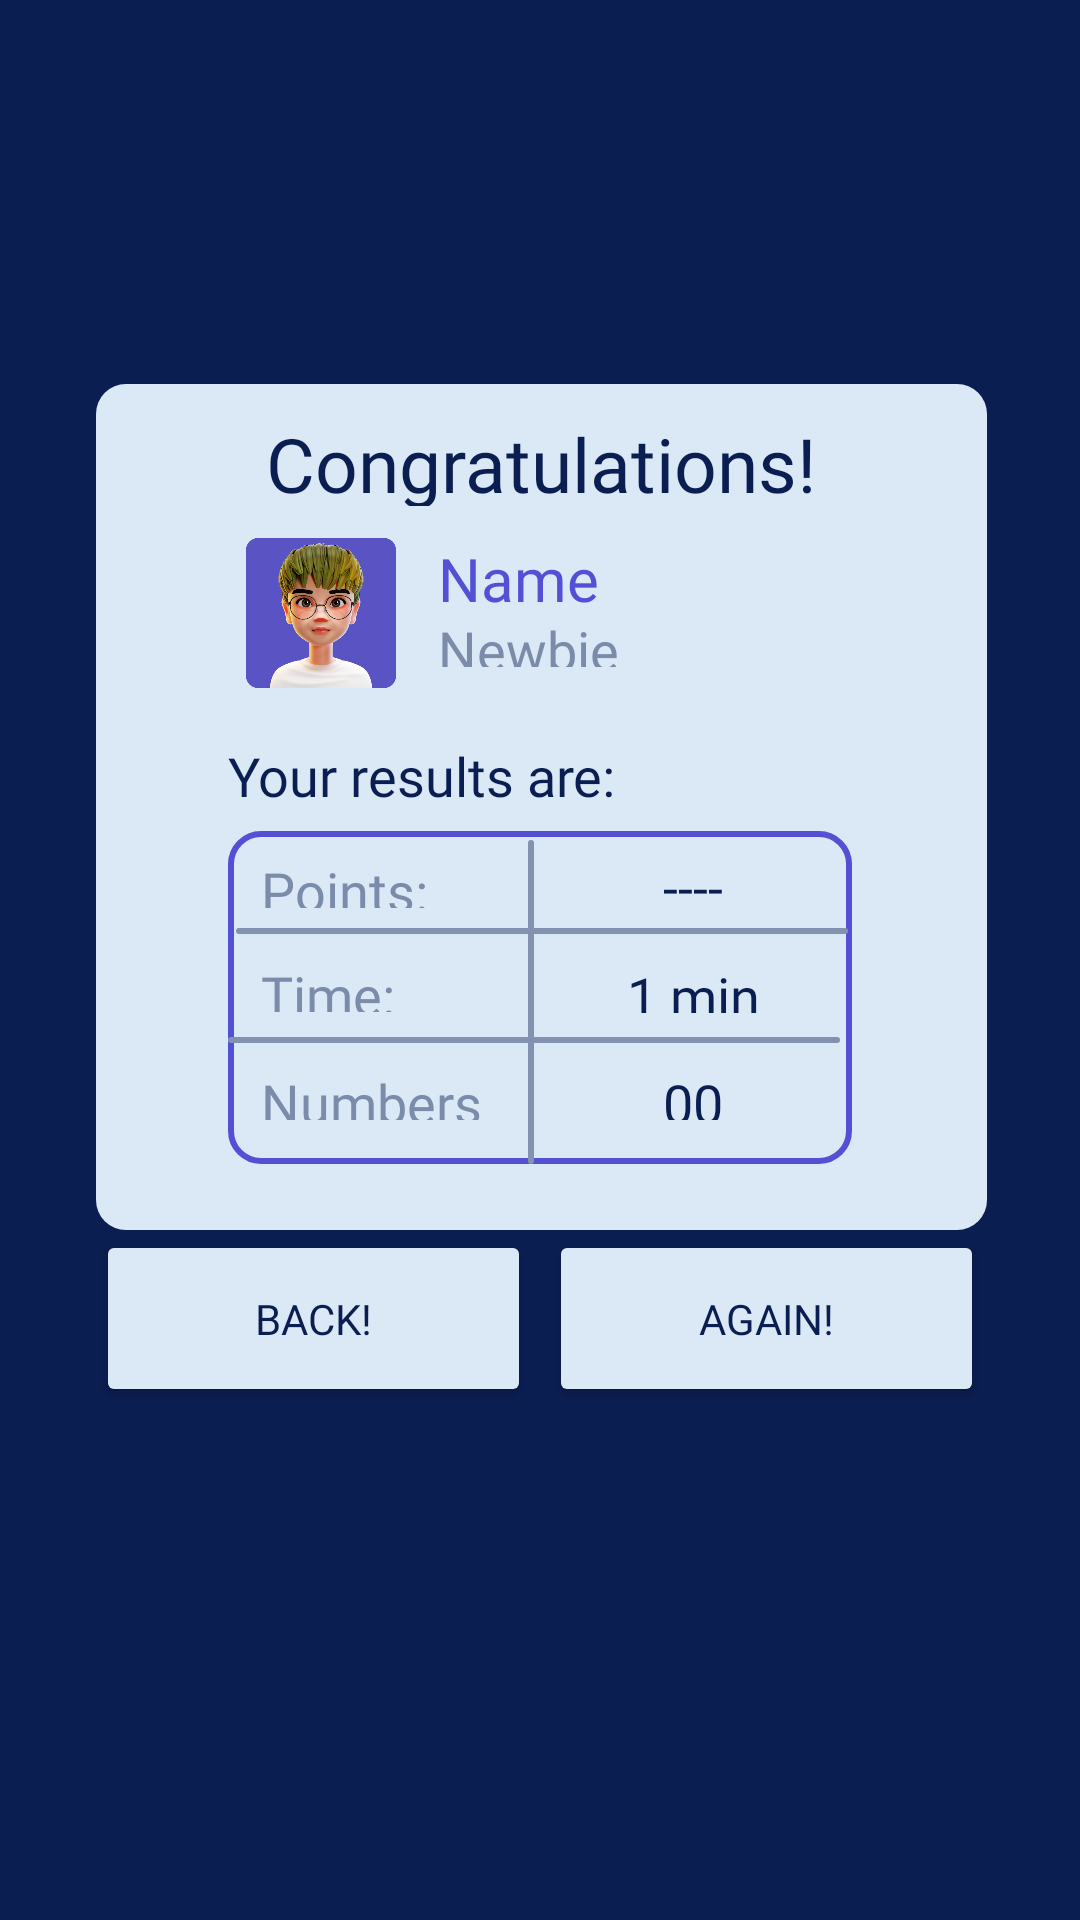

Icon click points for this 1080x1920 phone screenshot, format (x=x, y=y):
profile pic: (x=321, y=613)
